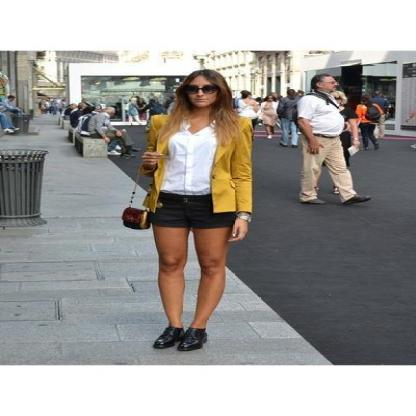bag: (122, 208, 148, 229)
jacket: (137, 111, 252, 209)
shirt: (162, 124, 216, 190)
shoe: (153, 324, 206, 351)
shorts: (146, 191, 237, 235)
